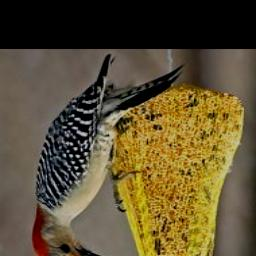Woodpecker: (11, 57, 191, 256)
